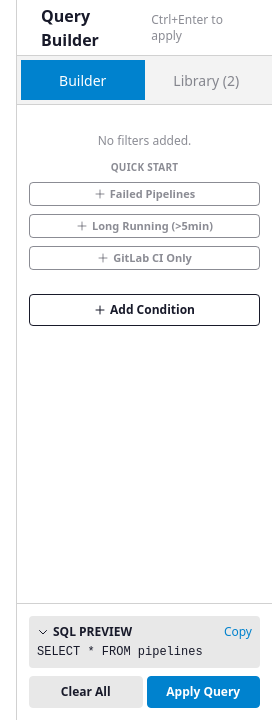
QueryBuilderSidebar › adds condition when Add Condition button is clicked
Step 1. Click the button "Add Condition" → (144, 310), box top-left (29, 294), bottom-right (260, 326)
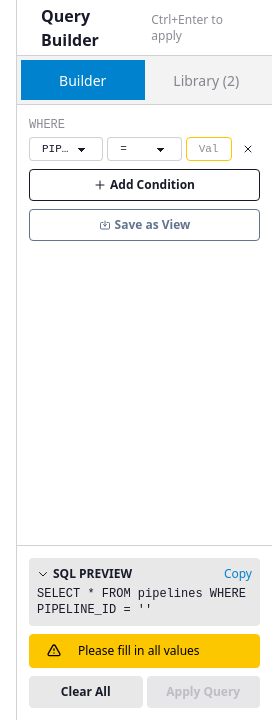
Result: the 1st dropdown showing "PIPELINE_ID" is shown at top-left (29, 137), bottom-right (103, 161)
